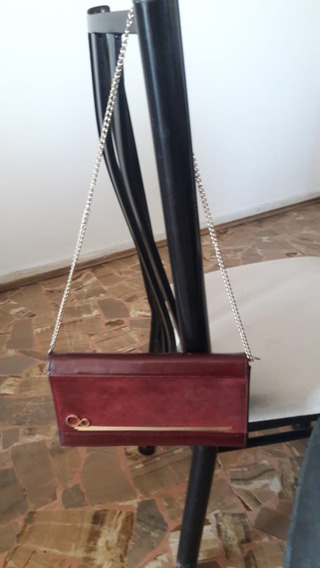cartera: (42, 6, 258, 449)
